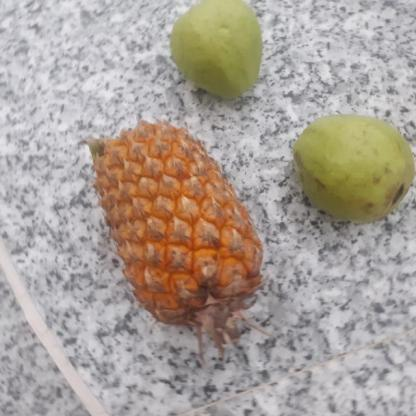guava: (288, 116, 412, 217), (167, 2, 264, 96)
pineapple: (79, 118, 260, 327)
